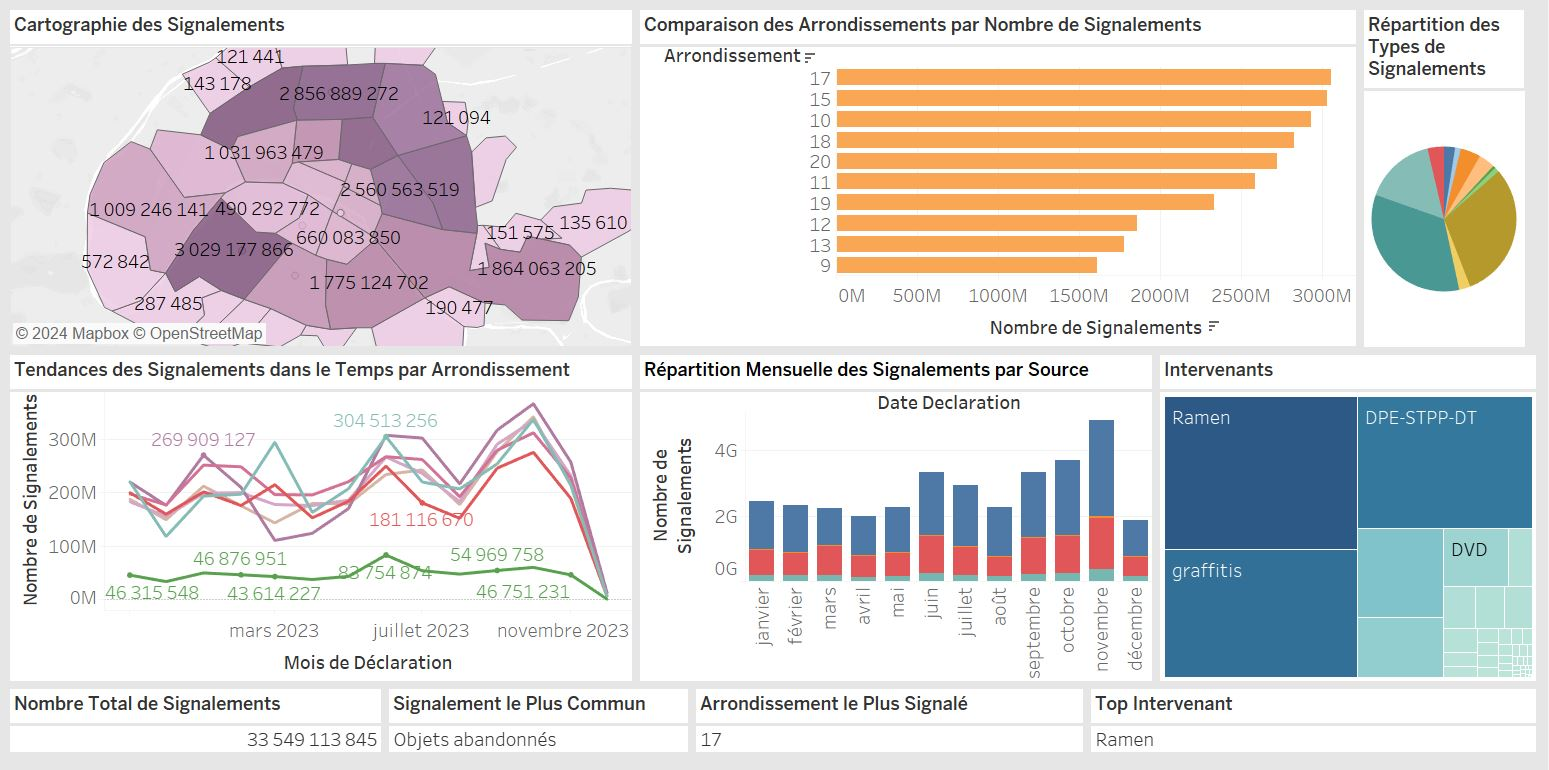

Layout of this report page (visuals, bound fields, positions):
{"tool":"tableau","page":{"name":"Tableau de bord 1","canvas":[1550,800],"ordinal":0},"visuals":[{"type":"worksheet","title":"Cartographie des signalements","mark":"Automatic","box":[8,8,630,345]},{"type":"worksheet","title":"Comparaison des Arrondissements par Nombre de Signalements","mark":"Automatic","rows":["ARRONDISSEMENT"],"cols":["ID DECLARATION"],"box":[638,8,724,345]},{"type":"worksheet","title":"Répartition des Types de Signalements","mark":"Pie","box":[1362,8,180,345]},{"type":"worksheet","title":"Tendances des signalements dans le temps ","mark":"Automatic","rows":["ID DECLARATION"],"cols":["DATE DECLARATION"],"box":[8,353,630,334]},{"type":"worksheet","title":"Répartition Mensuelle des Signalements par Source","mark":"Bar","rows":["ID DECLARATION"],"cols":["DATE DECLARATION"],"box":[638,353,520.5,334]},{"type":"worksheet","title":"Intervenants","mark":"Automatic","box":[1158.5,353,383.5,334]},{"type":"worksheet","title":"Nombre total de signalements","mark":"Automatic","box":[8,687,379,105]},{"type":"worksheet","title":"Signalement le plus commun","mark":"Automatic","box":[387,687,307,105]},{"type":"worksheet","title":"Arrondissement le plus signalé","mark":"Automatic","box":[694,687,395,105]},{"type":"worksheet","title":"Top intervenant","mark":"Automatic","box":[1089,687,453,105]}]}

Visuals, with their boxes on the page's 1550x800 design canvas (x1, y1, x2, y2). These are canvas units, not pixel positions in the 1549x770 screenshot, which may show the page scaled, cropped or inside an application window:
"Cartographie des signalements" worksheet: bbox=[8, 8, 638, 353]
"Comparaison des Arrondissements par Nombre de Signalements" worksheet: bbox=[638, 8, 1362, 353]
"Répartition des Types de Signalements" worksheet (Pie marks): bbox=[1362, 8, 1542, 353]
"Tendances des signalements dans le temps " worksheet: bbox=[8, 353, 638, 687]
"Répartition Mensuelle des Signalements par Source" worksheet (Bar marks): bbox=[638, 353, 1158, 687]
"Intervenants" worksheet: bbox=[1158, 353, 1542, 687]
"Nombre total de signalements" worksheet: bbox=[8, 687, 387, 792]
"Signalement le plus commun" worksheet: bbox=[387, 687, 694, 792]
"Arrondissement le plus signalé" worksheet: bbox=[694, 687, 1089, 792]
"Top intervenant" worksheet: bbox=[1089, 687, 1542, 792]
